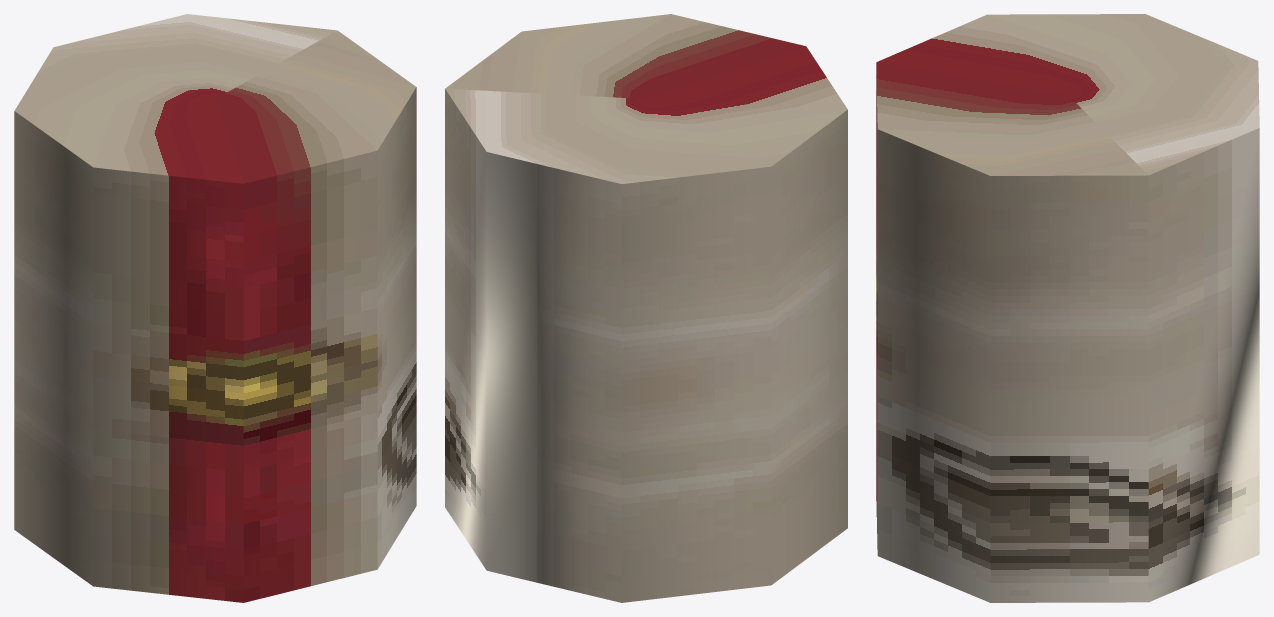
The model's file is collider.fbx.
3 views of the same model, side by side, from view 1: azimuth 30°, elevation 25°; view 2: azimuth 150°, elevation 25°; view 3: azimuth 270°, elevation 25° (orthographic).
Visible parts, largest first — view 1: 01_-_Default; view 2: 01_-_Default; view 3: 01_-_Default.
Part boxes in pixels (left/top/right/bottom): 01_-_Default: left=14, top=14, right=416, bottom=602; 01_-_Default: left=445, top=14, right=847, bottom=602; 01_-_Default: left=876, top=14, right=1259, bottom=602.
Size of the model in its own units: 1.94 by 2.39 by 1.94.
